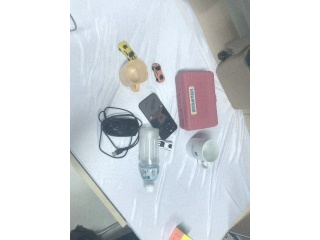bottle: (137, 118, 163, 195)
box: (174, 69, 219, 132), (216, 39, 249, 110)
cup: (185, 138, 221, 169), (118, 58, 149, 93)
mouse: (100, 115, 141, 137)
phone: (137, 92, 178, 140)
toy_car: (117, 41, 136, 61), (152, 63, 166, 84), (158, 139, 173, 151)
